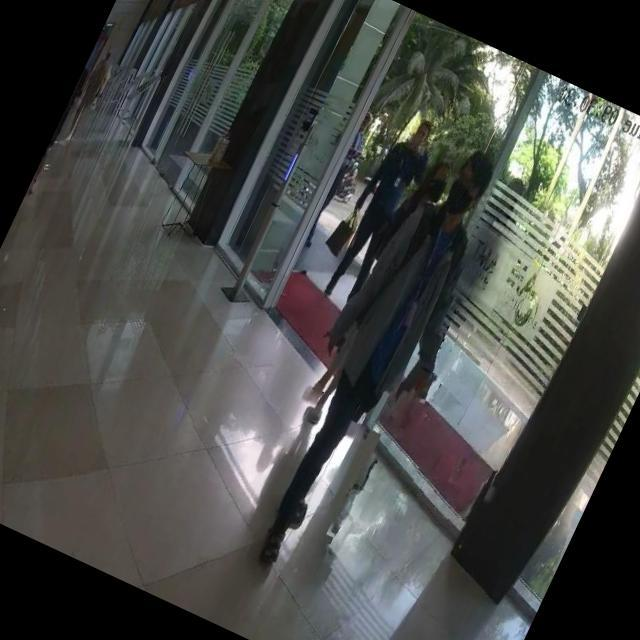person: (247, 140, 502, 578), (318, 113, 441, 314)
